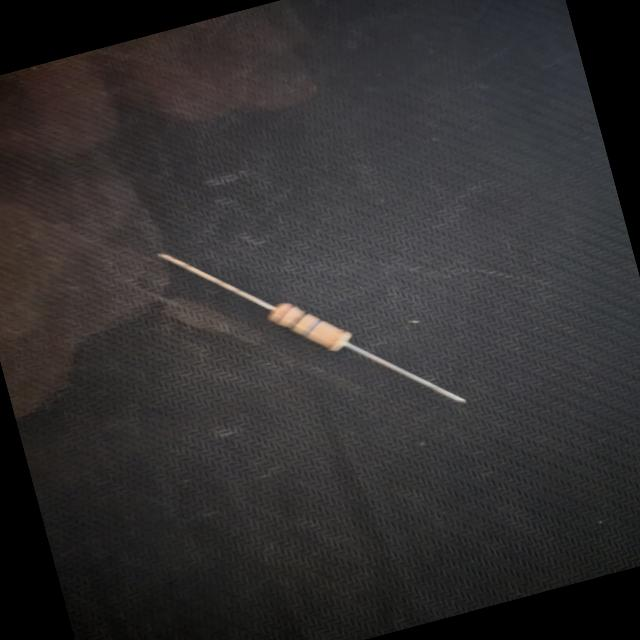resistor: (148, 174, 481, 483)
